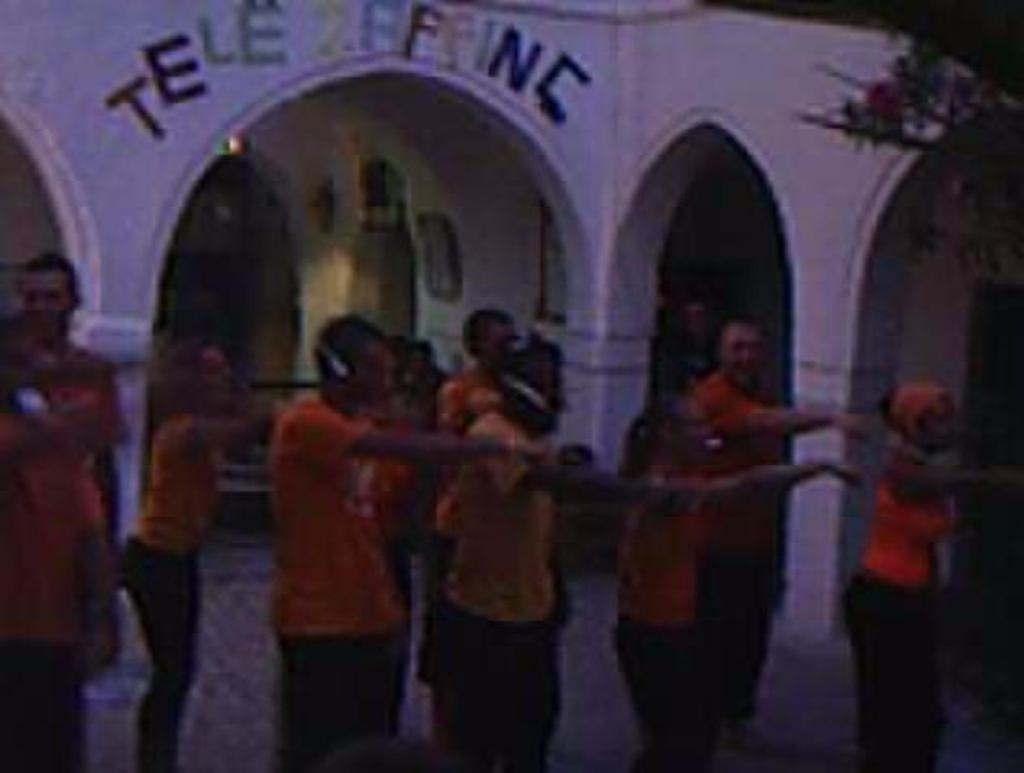face: (22, 271, 69, 338), (348, 348, 390, 419), (725, 331, 764, 382)
